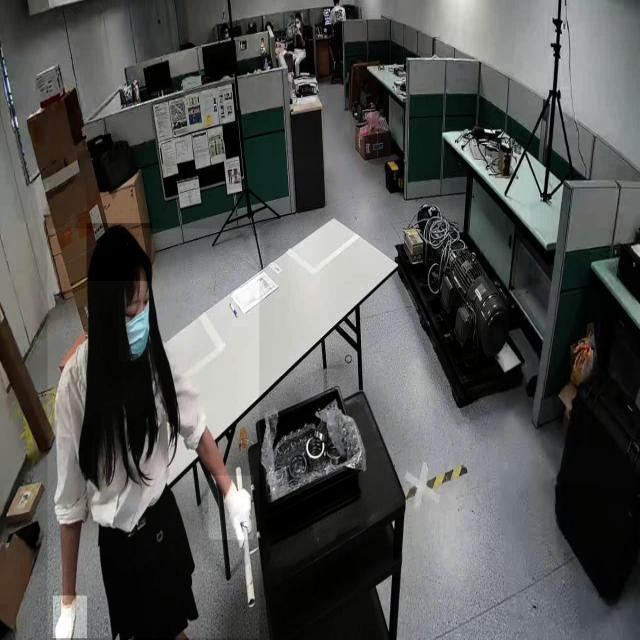gloves: (208, 476, 254, 540), (52, 596, 88, 640)
